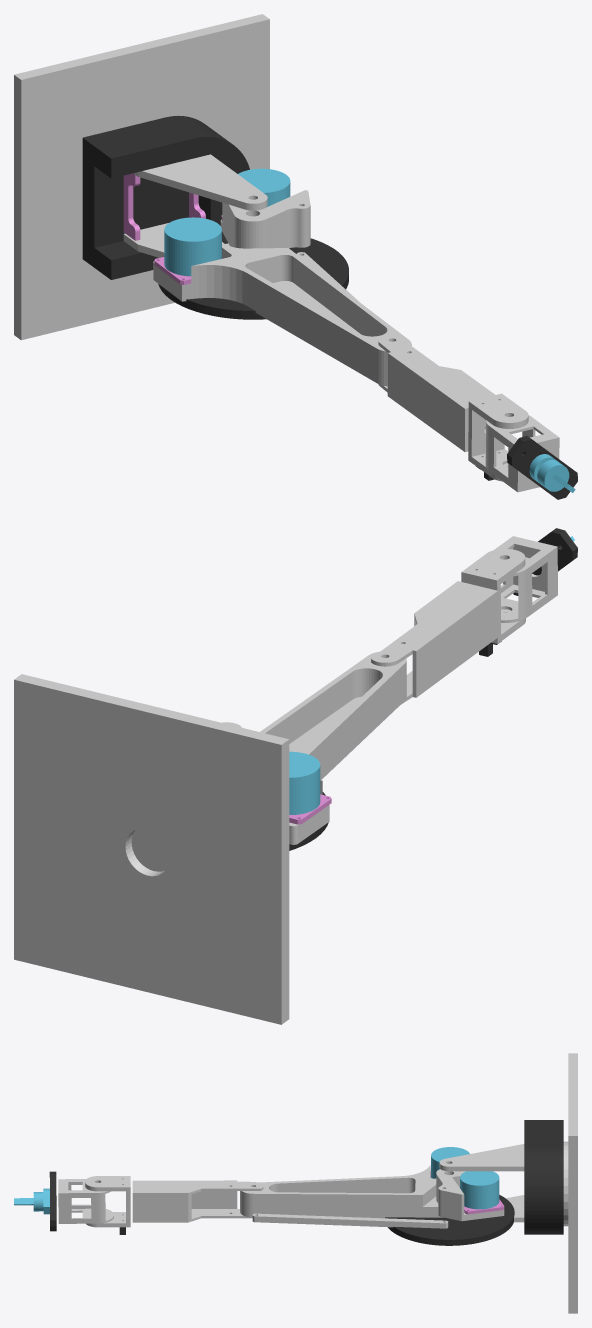
The model's file is green-6aix-robot-arm.glb.
3 views of the same model, one above another, from view 1: azimuth 30°, elevation 25°; view 2: azimuth 150°, elevation 25°; view 3: azimuth 270°, elevation 25° (orthographic). The views are drawn at different scales.
Visible parts, largest first — view 1: base, base-1-1, link1-1-1, link2-1-1, link-mover-1-1, base-2-2, motor-asm-1 motor-main-1, link2-1, shoulder-gear-cover-1, link3-1-1, hand-link-2-1, motor-main-1 (+3 smaller); view 2: base, link1-1-1, link2-1-1, link3-1-1, link2-1, motor-asm-1 motor-main-1, base-yaw-cylinder, hand-link-2-1; view 3: link1-1-1, link2-1-1, base-1-1, shoulder-gear-cover-1, base, link3-1-1, link-link1-1, base-2-2, link-mover-1-1, motor-main-1, link2-1, hand-link-1-1 (+4 smaller).
Part boxes in pixels (x1,y1,x2,y2): base: (14,14,269,340); base-1-1: (82,115,249,279); link1-1-1: (153,242,411,386); link2-1-1: (378,334,494,451); link-mover-1-1: (220,190,310,248); base-2-2: (133,154,267,210); motor-asm-1 motor-main-1: (164,217,221,276); link2-1: (468,393,528,481); shoulder-gear-cover-1: (158,232,348,319); link3-1-1: (485,415,559,492); hand-link-2-1: (507,436,577,499); motor-main-1: (238,168,290,207); base: (14,674,289,1024); link1-1-1: (260,651,406,844); link2-1-1: (371,581,497,704); link3-1-1: (494,536,557,622); link2-1: (461,549,525,643); motor-asm-1 motor-main-1: (289,751,320,814); base-yaw-cylinder: (131,828,169,871); hand-link-2-1: (513,528,577,595); link1-1-1: (240,1165,443,1218); link2-1-1: (132,1180,263,1222); base-1-1: (524,1120,563,1234); shoulder-gear-cover-1: (385,1195,514,1245); base: (568,1053,577,1313); link3-1-1: (58,1179,113,1223); link-link1-1: (252,1213,448,1228); base-2-2: (439,1144,524,1171); link-mover-1-1: (436,1169,504,1221); motor-main-1: (460,1171,499,1209); link2-1: (85,1176,130,1227); hand-link-1-1: (14,1188,49,1214).
Size of the model in its own units: 12 by 12 by 34.5.
